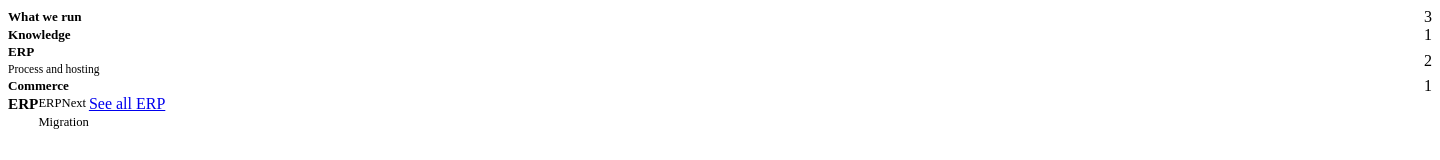
it: MegaCascade › cascades: the category picks the branches, the branch picks the items
The image size is (1440, 160).
Expected: the tab "ERP Process and hosting 2" is shown, [8,44,1432,77]
Expected: the link "ERPNext" is shown, [38,95,89,113]
# Column 1 is click-only, and picking a category resets column 2 to its first branch.
Click the tab "Knowledge 1".
click(39, 34)  # box [8,26,1432,44]
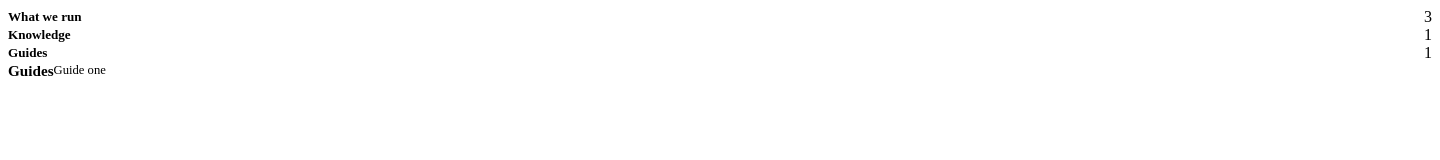
Expected: the link "Guide one" is shown, [54,62,106,80]
Expected: the link "ERPNext" is gone
